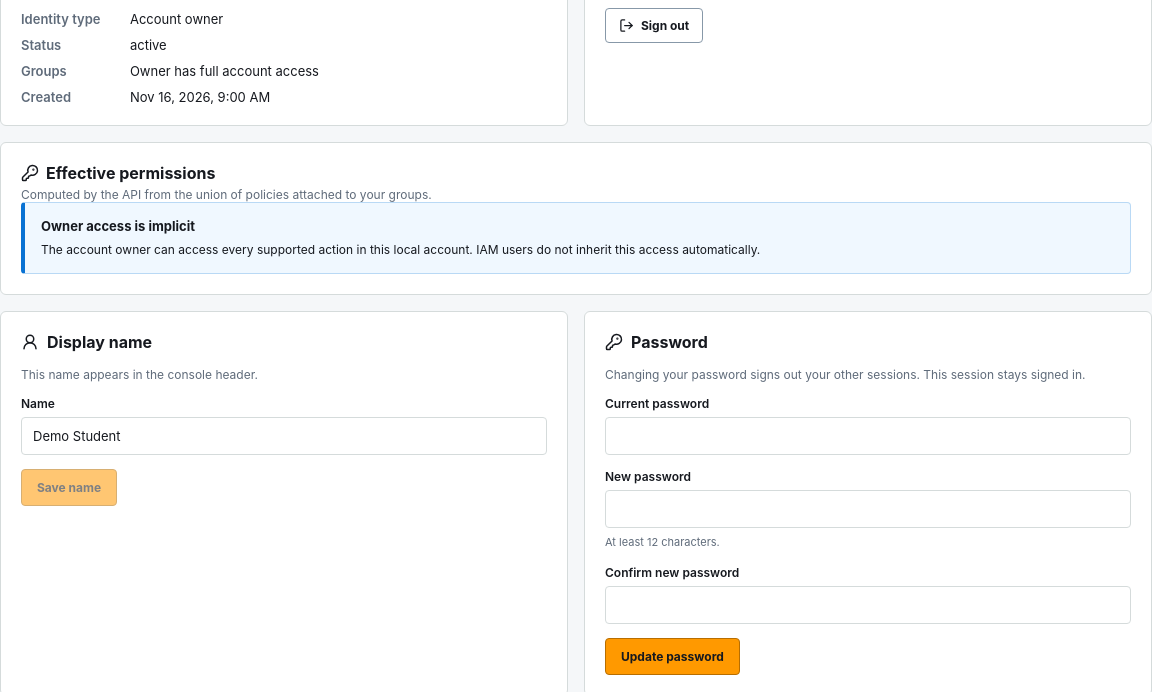
it: account page › changes the password and clears the password fields
(page scrolled)
Type "old-password-123" into the password field labelled "Current password".
click(868, 436); type("old-password-123")  # box [605,417,1131,455]
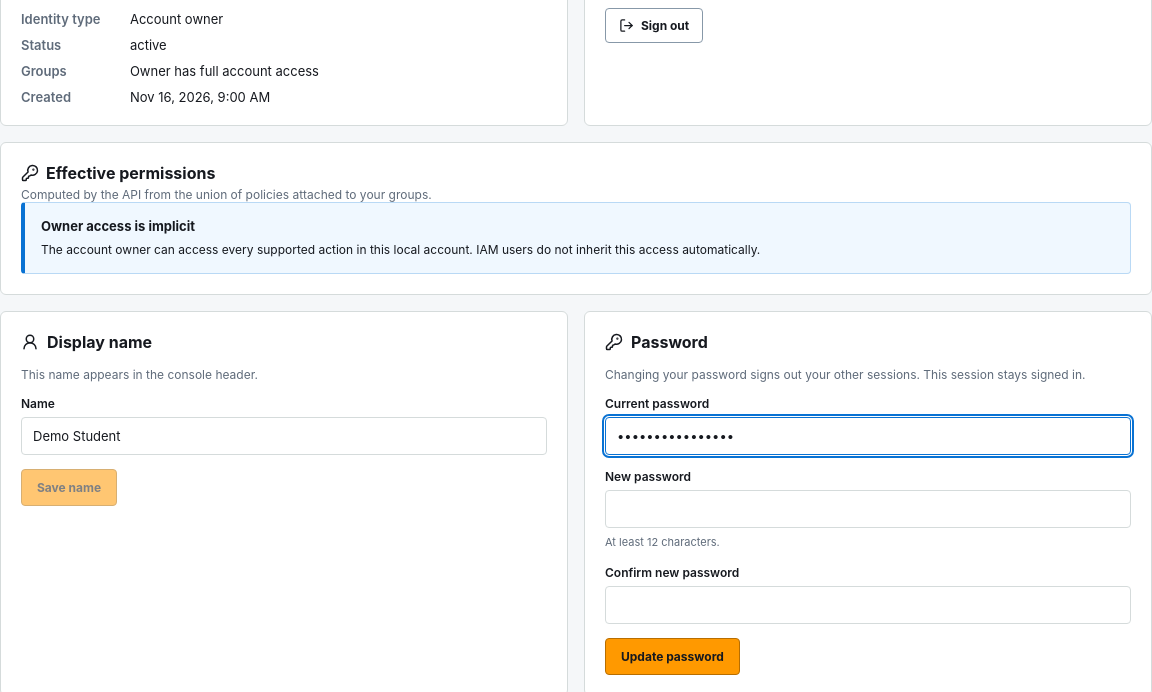
Type "new-password-456" into the password field labelled "New password".
click(868, 509); type("new-password-456")  # box [605,490,1131,528]
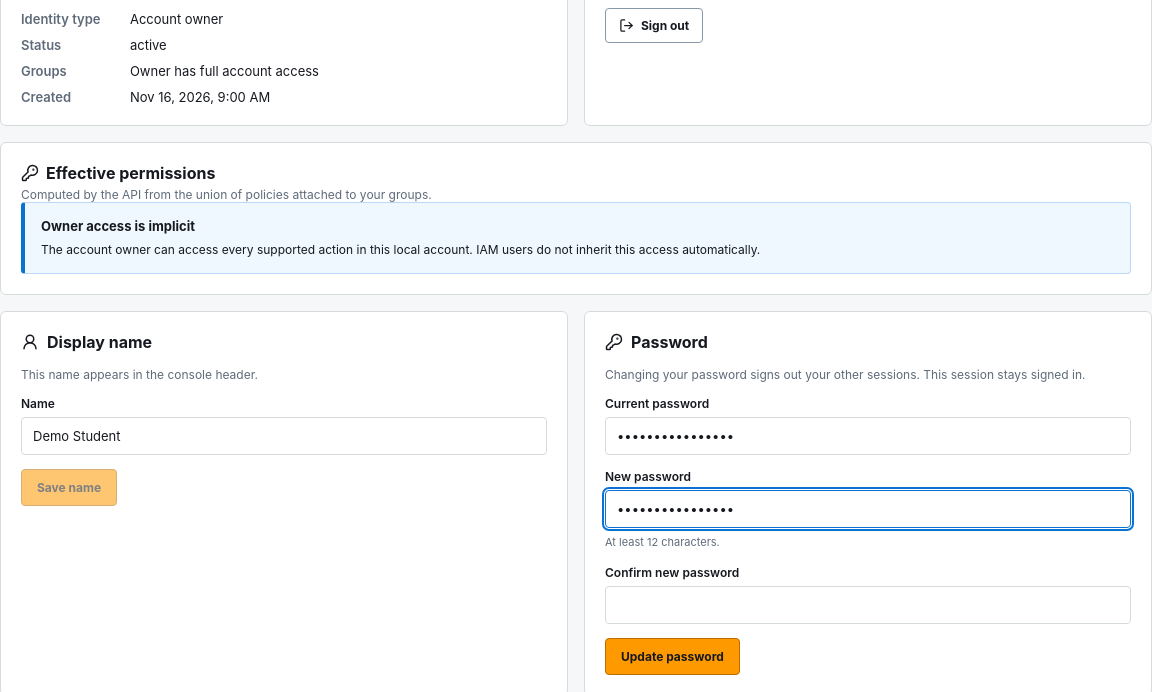
Type "new-password-456" into the password field labelled "Confirm new password".
click(868, 604); type("new-password-456")  # box [605,586,1131,624]
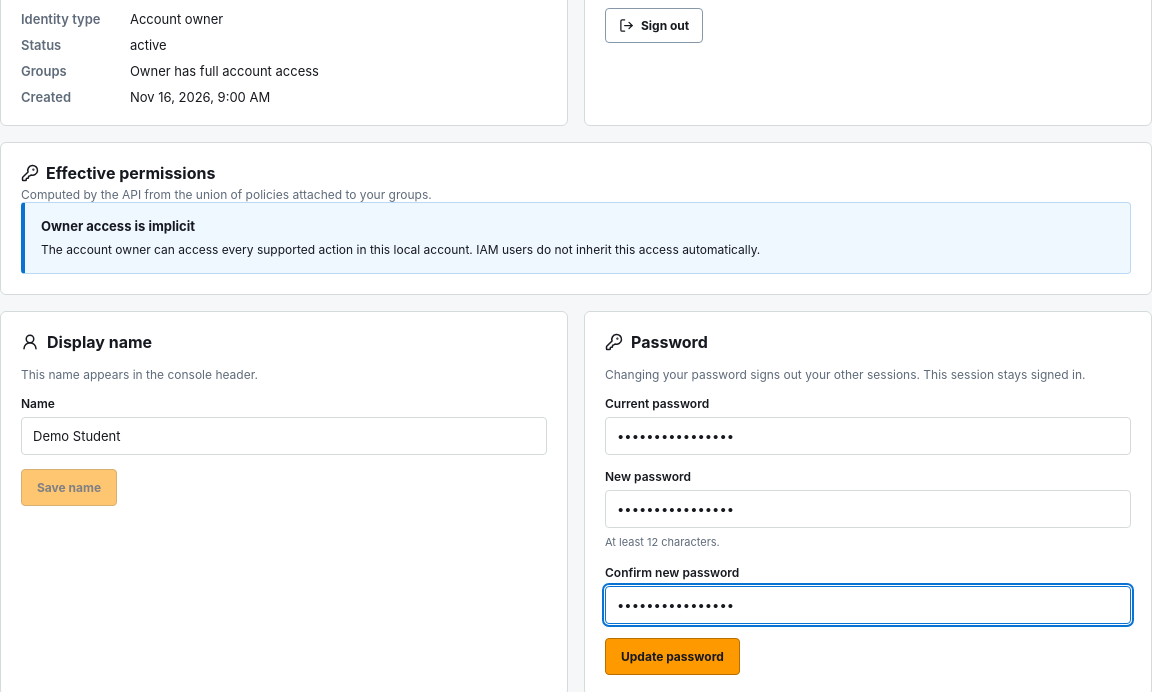
Click the button "Update password".
click(672, 656)  # box [605,638,740,674]
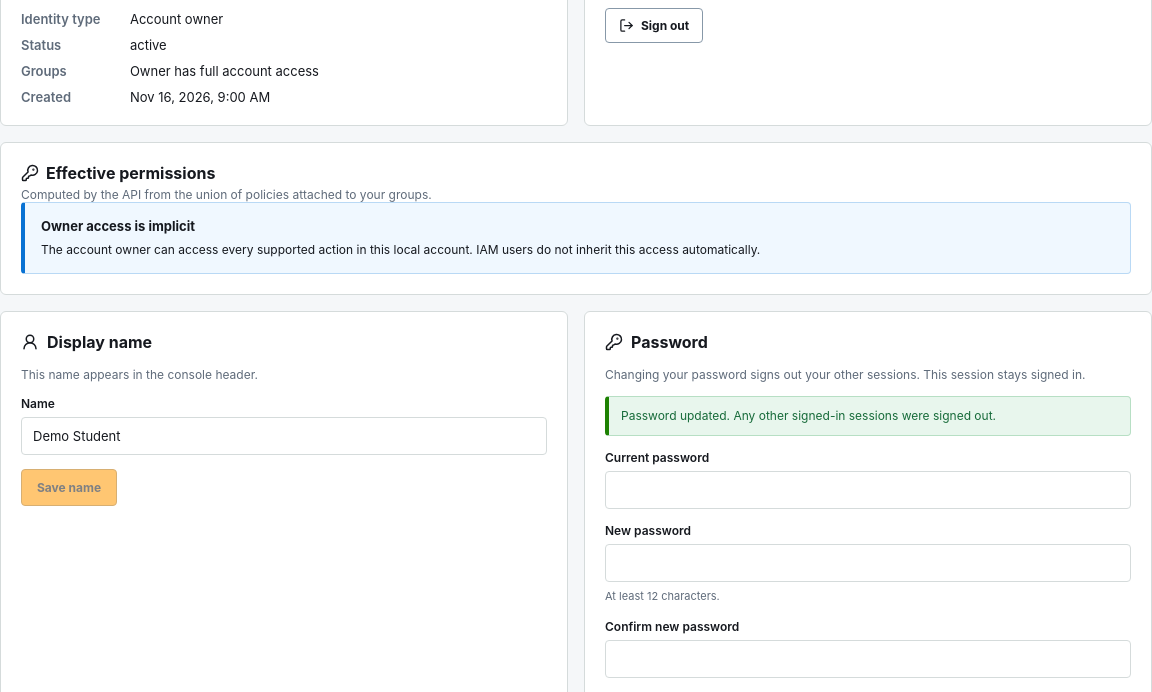
Check: the message shows "Password updated.", box [621,408,996,423]
Check: the password field labelled "Current password" is empty, box [605,471,1131,509]
Check: the password field labelled "New password" is empty, box [605,544,1131,582]
